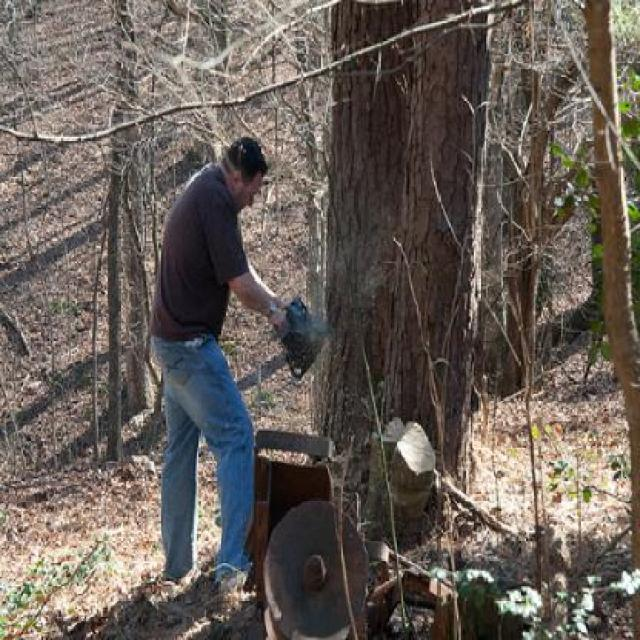Chainsaw: (235, 303, 328, 389)
